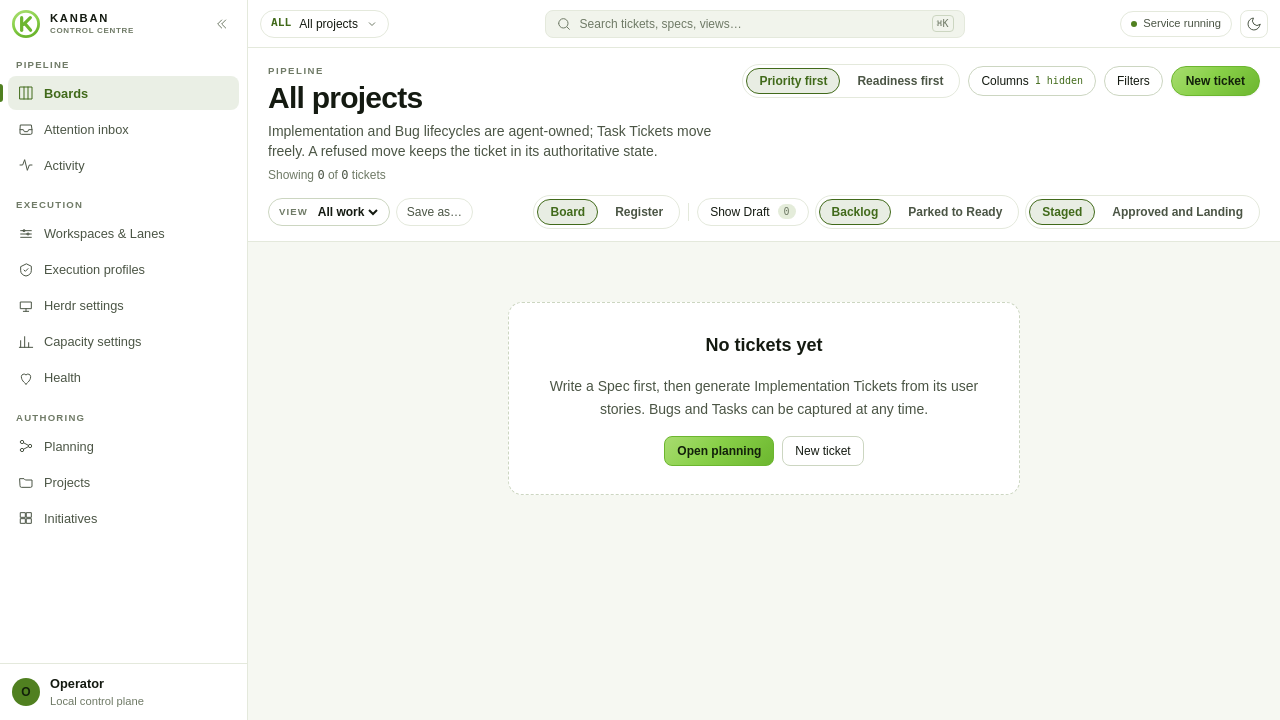
Test: the application shell › opens the command palette from the search control
This screenshot has width=1280, height=720.
Click the button with test id "open-search" at (661, 24), box [545,10,965,38]
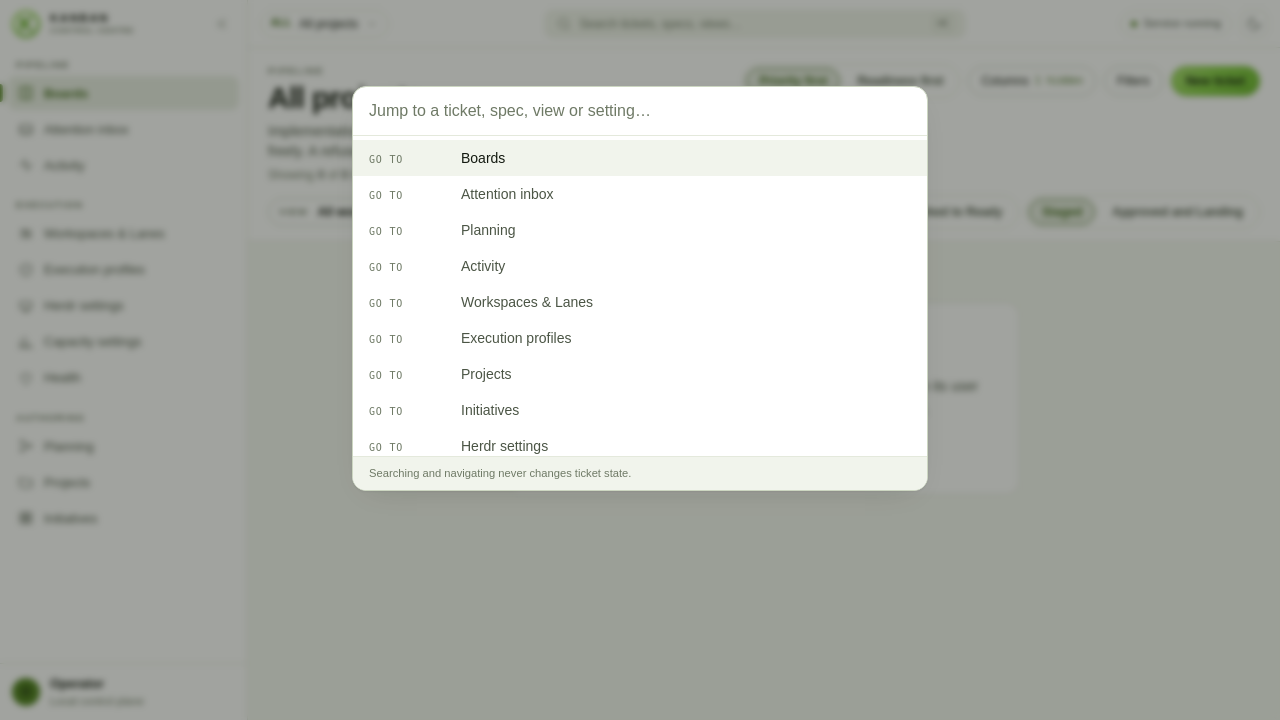
Check: the element with test id "command-palette" is shown
